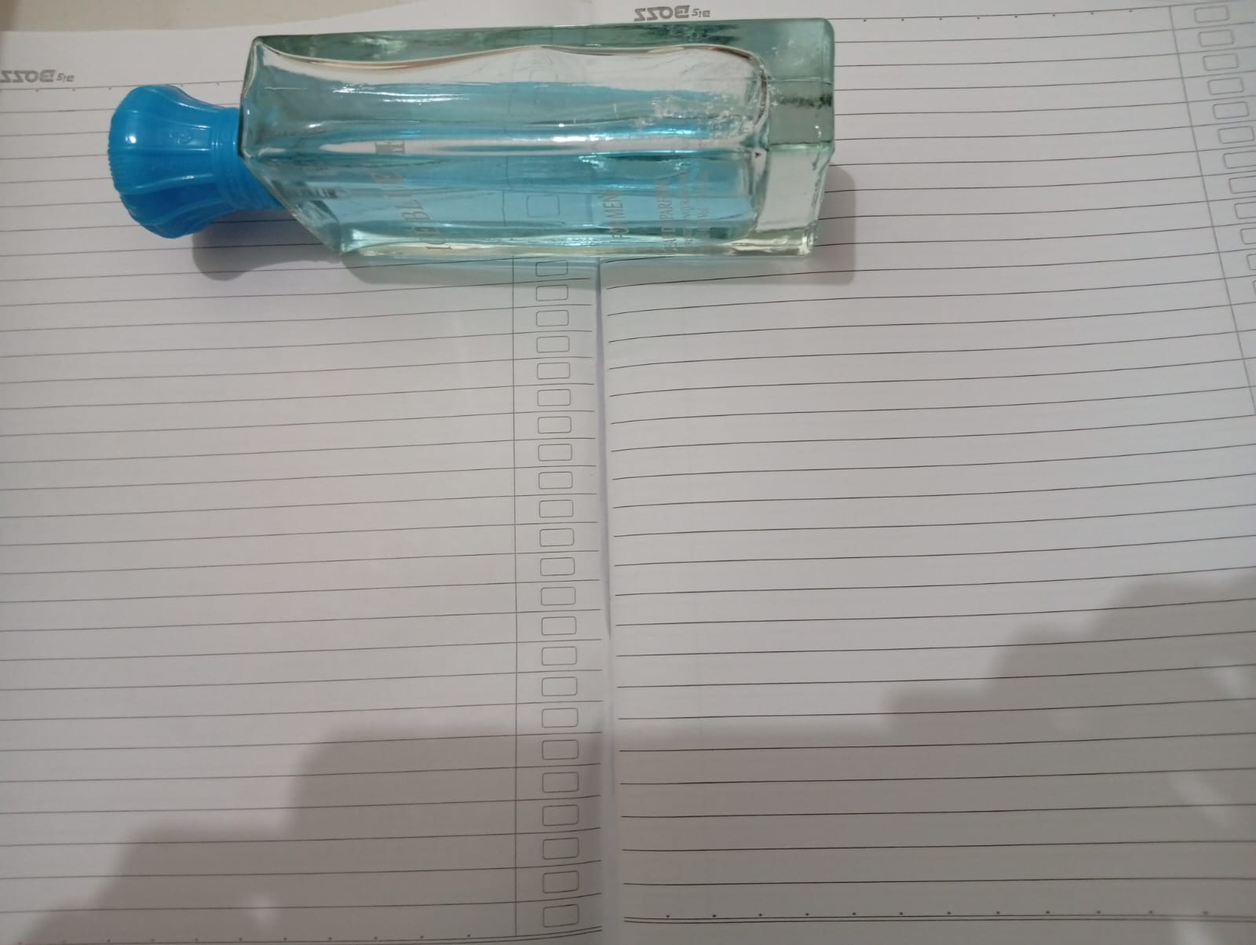Parfum: (82, 11, 890, 298)
